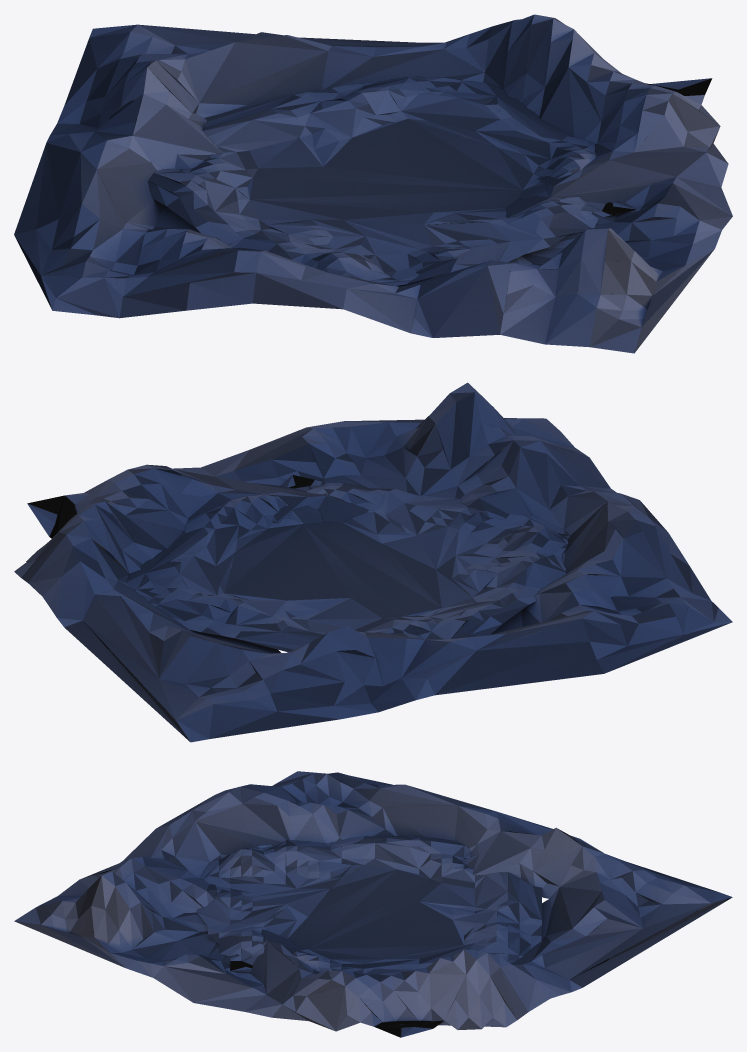
Rendered from ground.glb.
3 views of the same model, one above another, from view 1: azimuth 30°, elevation 25°; view 2: azimuth 150°, elevation 25°; view 3: azimuth 270°, elevation 25° (orthographic). The views are drawn at different scales.
Visible parts, largest first — view 1: Grid.001; view 2: Grid.001; view 3: Grid.001.
Boxes of the visible parts, bbox=[...] form: Grid.001: bbox=[14, 14, 732, 353]; Grid.001: bbox=[14, 382, 732, 742]; Grid.001: bbox=[14, 771, 732, 1037].
Size of the model in its own units: 92.89 by 9.78 by 104.
1 material, 1 textured.
